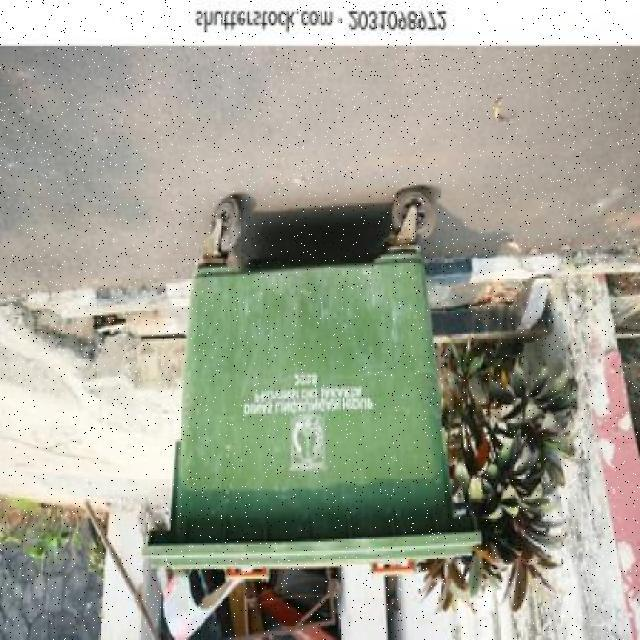garbage container: (135, 179, 491, 587)
